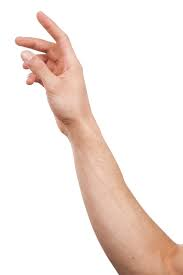hand: (7, 6, 98, 142)
